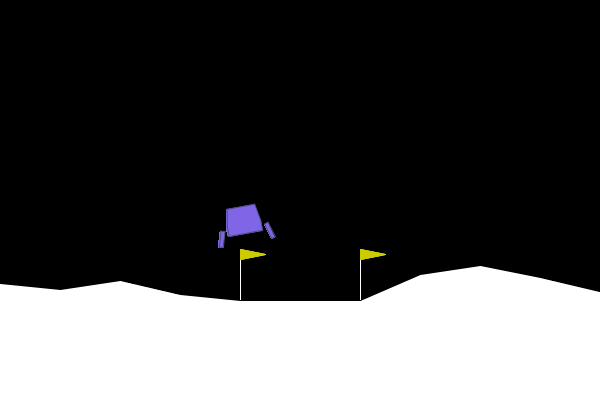lander: (211, 200, 277, 250)
